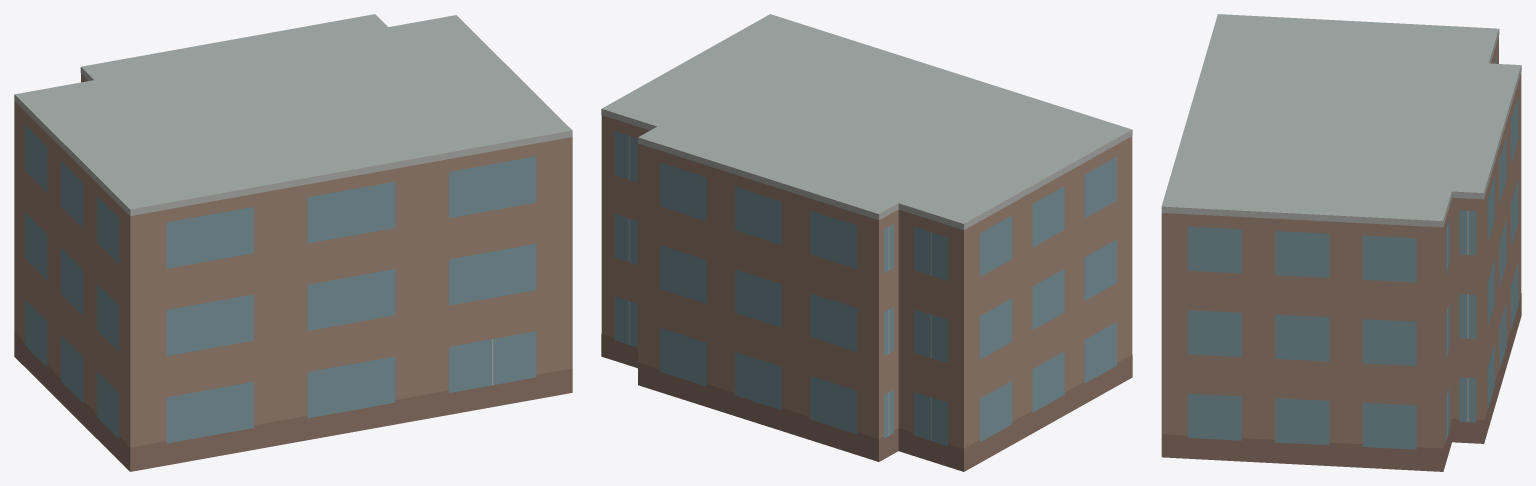
The model's file is survey-upis-33035878.glb.
The picture shows the model from 3 angles, left to right: view 1: azimuth 30°, elevation 25°; view 2: azimuth 150°, elevation 25°; view 3: azimuth 270°, elevation 25°; orthographic projection. The views are drawn at different scales.
Visible parts, largest first — view 1: survey-upis-33035878.tmp; view 2: survey-upis-33035878.tmp; view 3: survey-upis-33035878.tmp.
Boxes of the visible parts, <box> form: survey-upis-33035878.tmp: <box>14,14,572,471</box>; survey-upis-33035878.tmp: <box>601,14,1132,471</box>; survey-upis-33035878.tmp: <box>1161,14,1521,471</box>.
Size of the model in its own units: 17.38 by 9.8 by 12.76.
